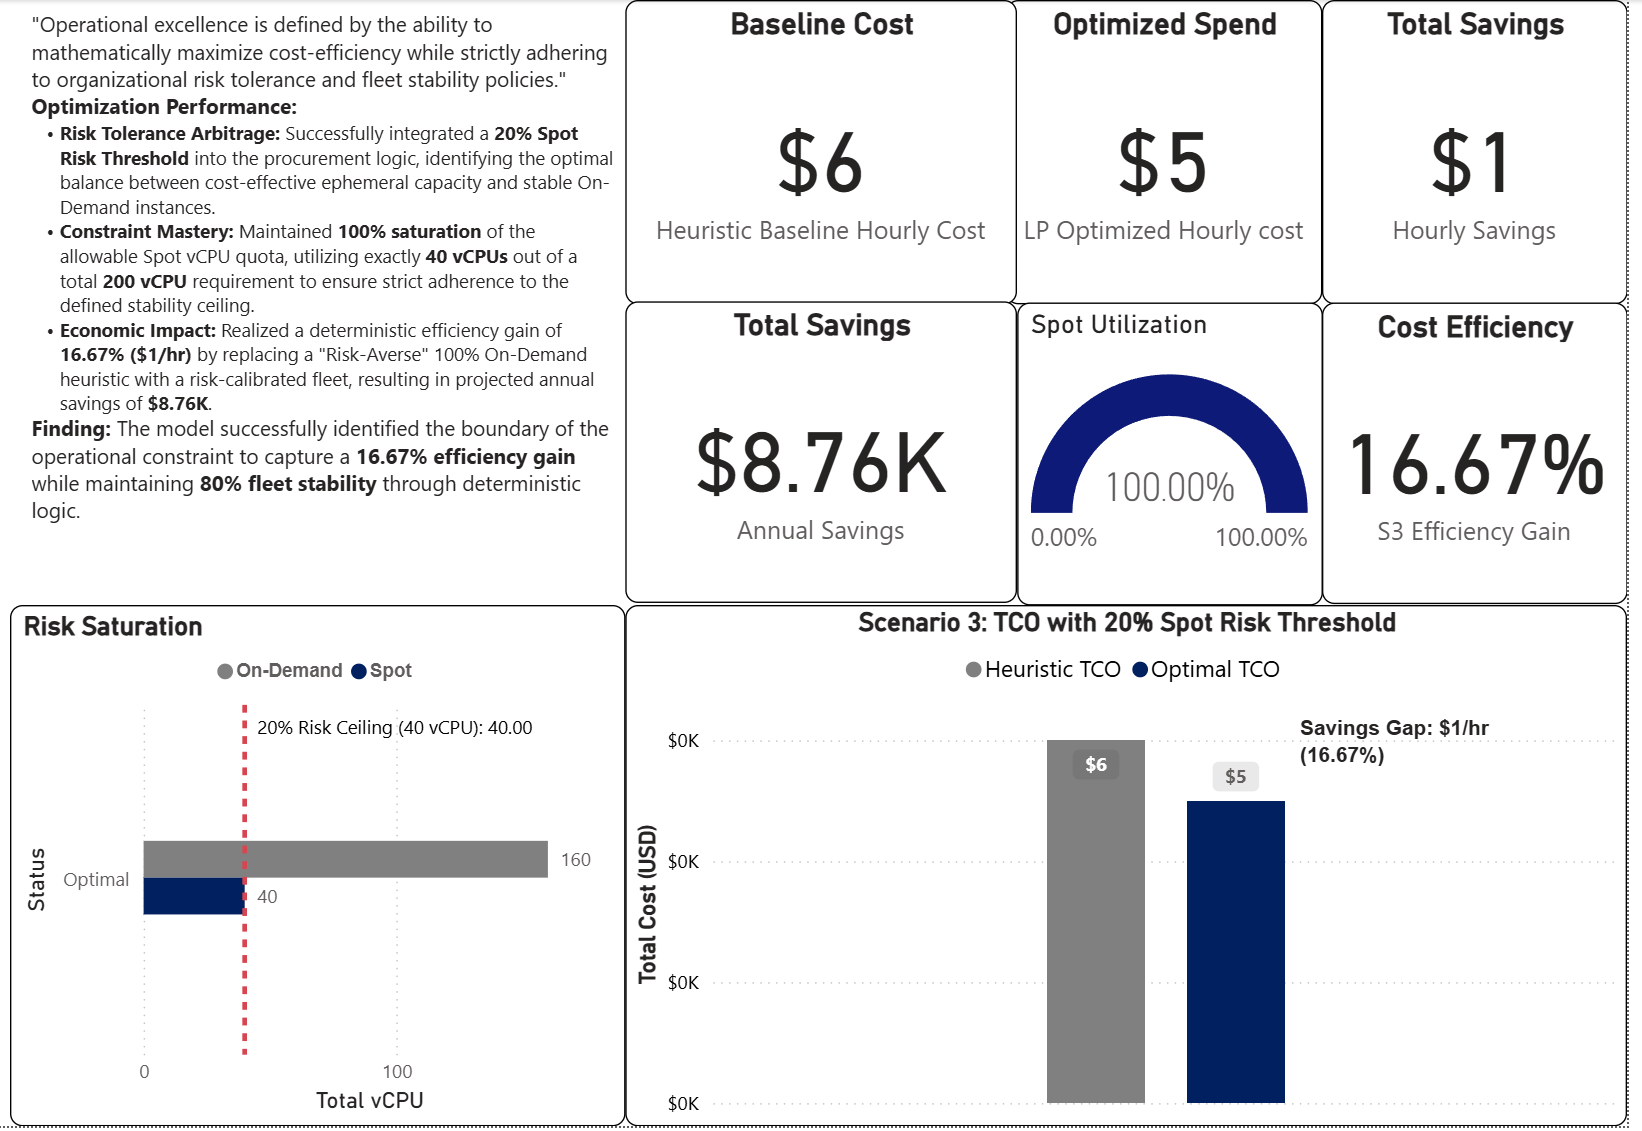

What the dashboard file says about the page in this screenshot:
{"tool":"powerbi","page":{"name":"Scenario 3","canvas":[1280,720],"ordinal":2},"visuals":[{"type":"group","id":"g1","title":"Group 1","box":[535.6,311.7,640.5,333.5],"z":0},{"type":"clusteredBarChart","title":"Risk Saturation","fields":{"Category":["results_scenario_03.Status"],"Y":["results_scenario_03.Total vCPU"],"Series":["results_scenario_03.Procurement Type"]},"box":[142,450.6,393.5,194.9],"z":1000},{"type":"clusteredColumnChart","title":"Scenario 3: TCO with 20% Spot Risk Threshold","fields":{"Y":["results_scenario_03.Heuristic TCO","results_scenario_03.Optimal TCO"]},"box":[535.6,311.7,640.5,333.5],"z":3000,"group":"g1"},{"type":"card","title":"Total Savings","fields":{"Values":["results_scenario_03.S3 Total Savings"]},"box":[142,312.1,165.6,138.5],"z":3000},{"type":"card","title":"Cost Efficiency","fields":{"Values":["results_scenario_03.S3 Efficiency Gain"]},"box":[786.2,118,194.9,192.7],"z":4000},{"type":"textbox","box":[962.2,375.2,135.8,49.8],"z":4000,"group":"g1"},{"type":"card","title":"Optimized Spend","fields":{"Values":["results_scenario_03.S3 LP Optimized"]},"box":[535.4,118.6,250.6,194.2],"z":5000},{"type":"card","title":"Baseline Cost","fields":{"Values":["results_scenario_03.S3 Heuristic Baseline"]},"box":[307.6,118.6,227.9,192.7],"z":6000},{"type":"gauge","title":"Spot Utilization","fields":{"Y":["results_scenario_03.S3 Spot Utilization %"]},"box":[981.1,118,194.9,193.4],"z":7000},{"type":"card","title":"Total Savings","fields":{"Values":["results_scenario_03.S3.Annual_Savings"]},"box":[307.6,312.1,227.9,138.5],"z":8000}]}

Visuals, with their boxes on the page's 1280x720 design canvas (x1, y1, x2, y2). These are canvas units, not pixel positions in the 1642x1131 screenshot, which may show the page scaled, cropped or inside an application window:
"Group 1" group: <box>536,312,1176,645</box>
"Risk Saturation" clusteredBarChart: <box>142,451,536,646</box>
"Scenario 3: TCO with 20% Spot Risk Threshold" clusteredColumnChart: <box>536,312,1176,645</box>
"Total Savings" card: <box>142,312,308,451</box>
"Cost Efficiency" card: <box>786,118,981,311</box>
textbox: <box>962,375,1098,425</box>
"Optimized Spend" card: <box>535,119,786,313</box>
"Baseline Cost" card: <box>308,119,536,311</box>
"Spot Utilization" gauge: <box>981,118,1176,311</box>
"Total Savings" card: <box>308,312,536,451</box>
